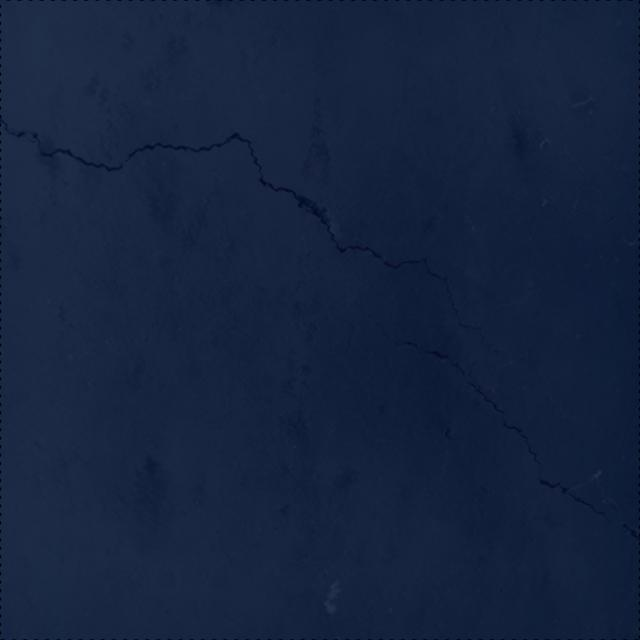crack: (0, 117, 537, 370), (376, 322, 640, 542)
